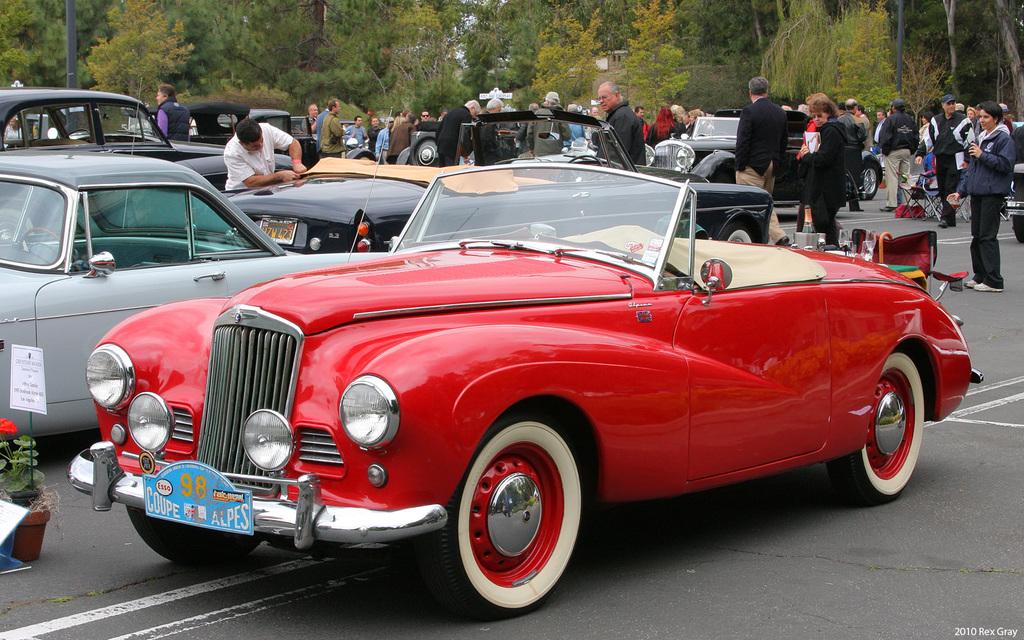Car: (0, 81, 983, 618)
